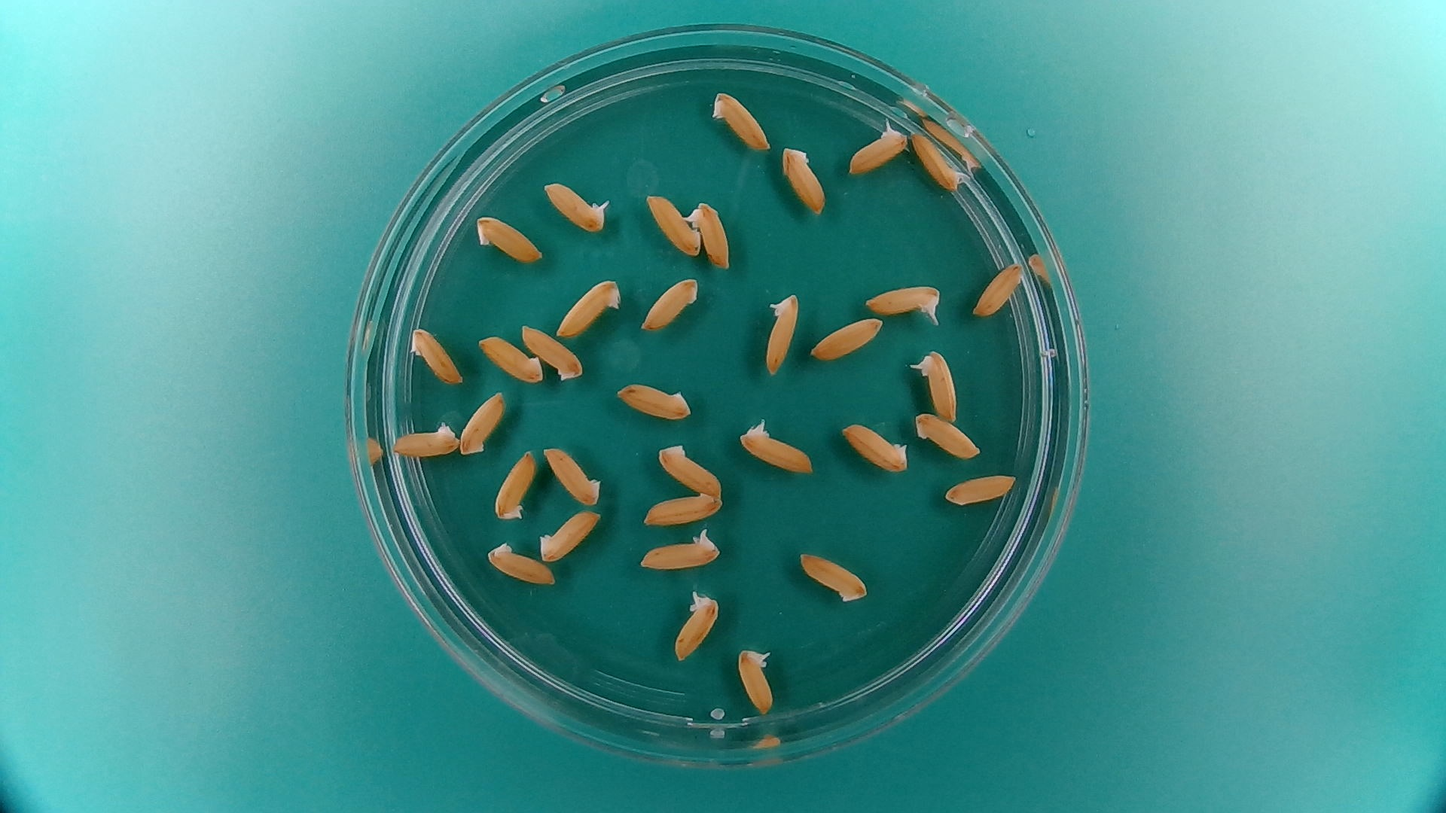no: (552, 273, 625, 340), (795, 547, 873, 605), (653, 440, 727, 501), (540, 441, 606, 507), (708, 87, 773, 154), (837, 418, 912, 476), (471, 210, 548, 266), (519, 321, 587, 382), (642, 191, 702, 260), (759, 288, 804, 379), (489, 444, 538, 525), (778, 142, 830, 218), (536, 507, 605, 564), (611, 378, 695, 424), (474, 331, 544, 386), (806, 315, 885, 363), (404, 325, 464, 388), (483, 539, 557, 589), (457, 386, 508, 458), (640, 278, 703, 335), (911, 412, 983, 460), (633, 490, 725, 527), (971, 261, 1027, 319), (389, 419, 460, 460), (942, 472, 1018, 508)
yes: (740, 423, 819, 479), (635, 526, 724, 573), (907, 344, 958, 423), (671, 591, 723, 663), (688, 196, 736, 273), (845, 118, 909, 175), (544, 184, 613, 236), (908, 131, 964, 193), (734, 643, 777, 718), (866, 287, 945, 324)
